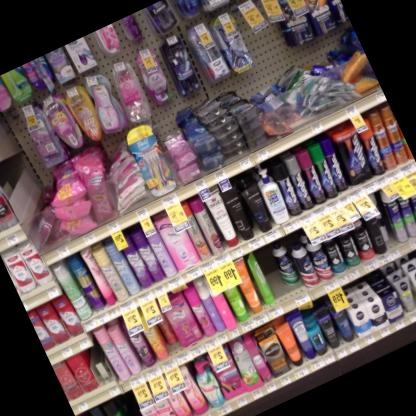empty_space: (249, 244, 293, 306)
